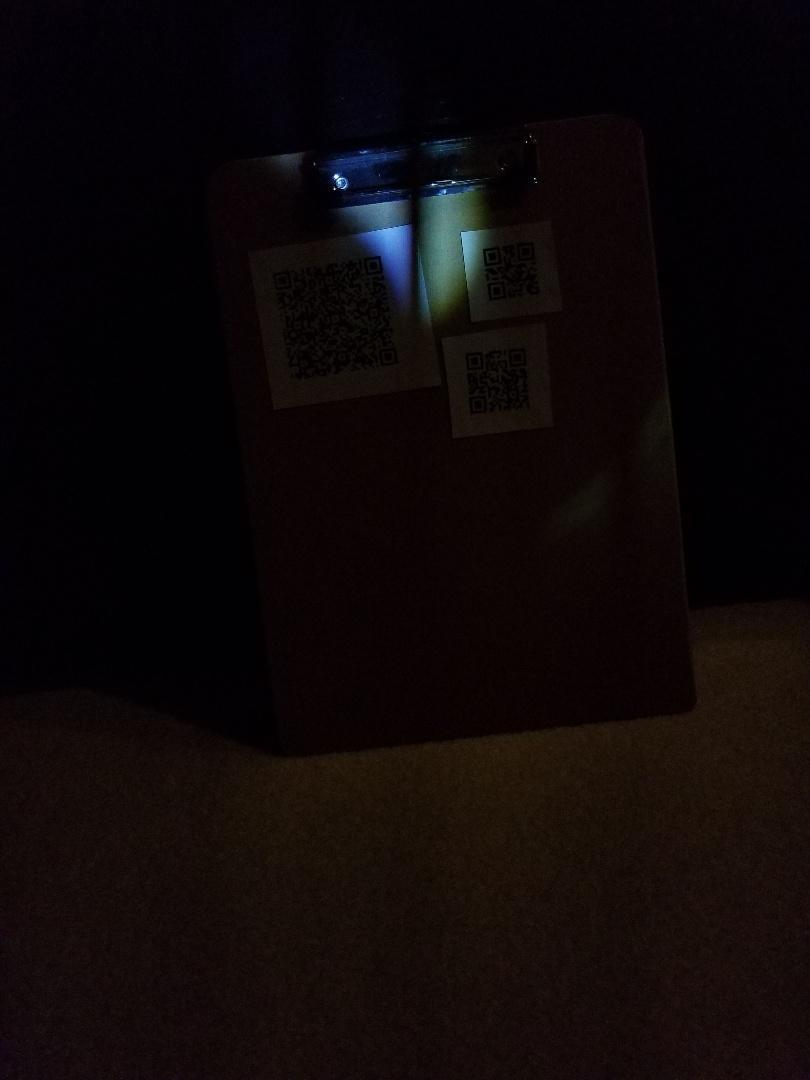Finder pattern: (357, 252, 389, 276), (506, 344, 533, 370), (460, 347, 488, 372), (464, 392, 490, 417), (268, 266, 293, 291), (479, 244, 504, 269), (515, 237, 537, 264), (481, 281, 508, 303), (374, 347, 399, 370)
